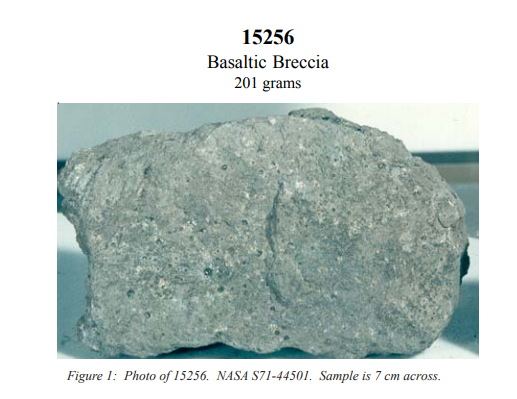Basalt: (62, 112, 476, 353)
